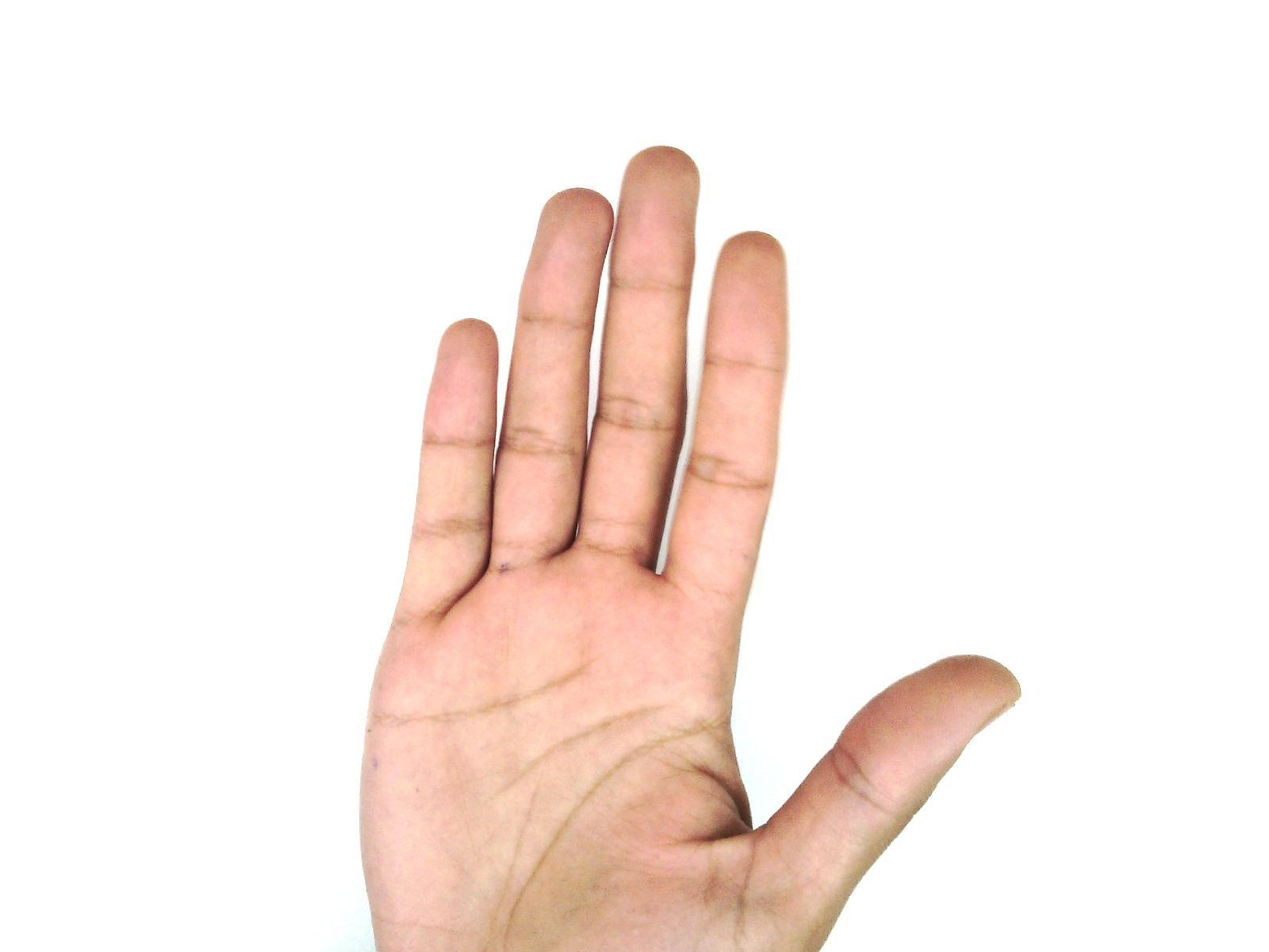open_palm: (354, 144, 1023, 951)
